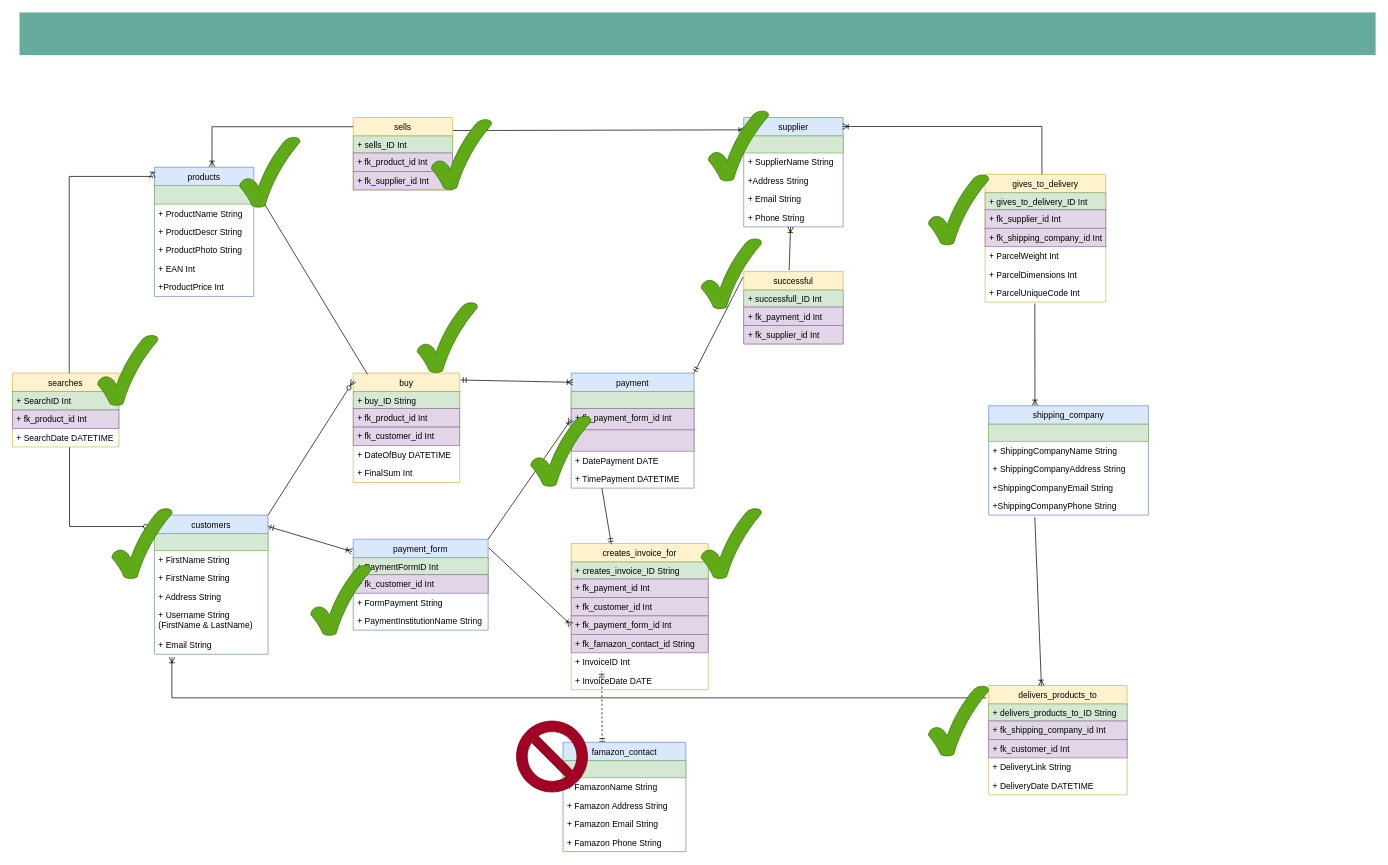
Some shapes in this 1388 by 865 pixel diagram are drawn without their labels. Each missing label, with the centre of its shape:
+ CustomerID Int: the point at 211,542
+ FamazonContactID Int: the point at 624,769
+ fk_buy_id Int: the point at 632,440
+ PaymentID Int: the point at 632,400
+ ProductID Int: the point at 204,194
+ ShippingCompanyID Int: the point at 1068,432
+ SupplierID Int: the point at 793,144
Step 4: Normalization - 4NF: the point at 697,33
